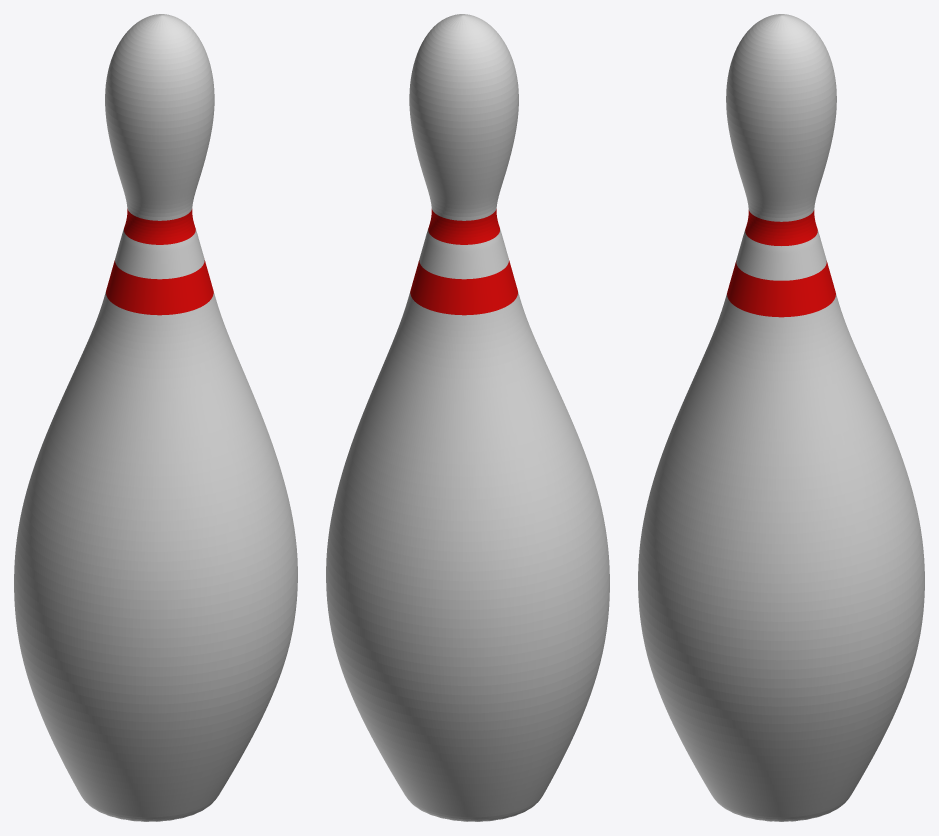
File: bowlingPin first try.fbx
3 renders of one model, left to right at view 1: azimuth 30°, elevation 25°; view 2: azimuth 150°, elevation 25°; view 3: azimuth 270°, elevation 25°, orthographic.
Visible parts, largest first — view 1: Circle; view 2: Circle; view 3: Circle.
Boxes of the visible parts, <box> form: Circle: <box>14,14,297,821</box>; Circle: <box>326,14,609,821</box>; Circle: <box>638,14,924,821</box>.
Bounding box in the file's own units: 113 × 343 × 113.
